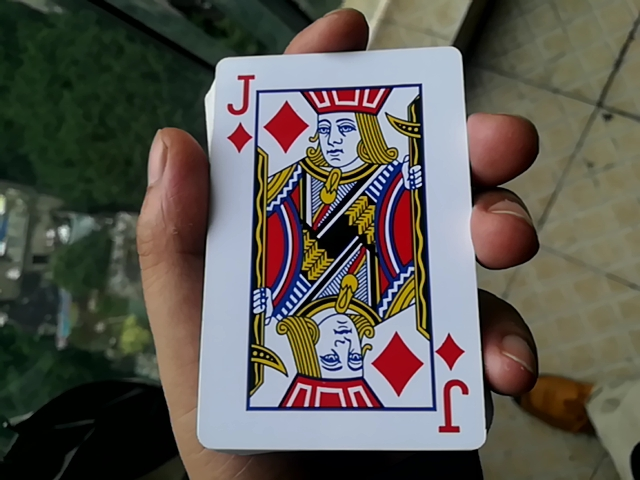fk j: (174, 58, 485, 445)
